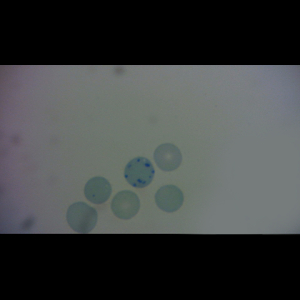aggregate reticulocyte: (123, 156, 156, 189)
erythrocyte: (65, 201, 98, 234), (109, 189, 141, 220), (153, 142, 184, 172), (154, 184, 184, 213)
punctate reticulocyte: (83, 176, 113, 205)
